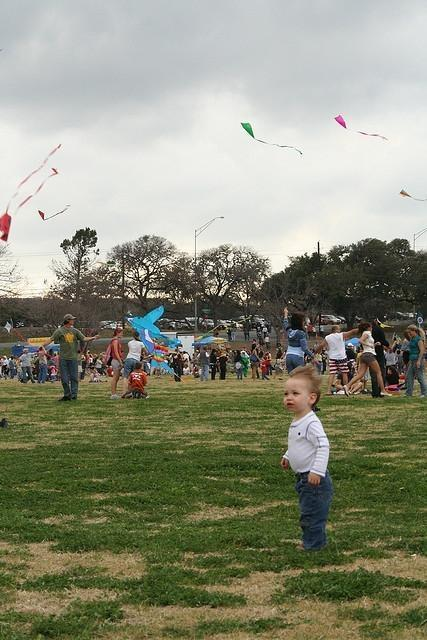car: (384, 312, 411, 322), (245, 319, 264, 330), (322, 315, 342, 325), (314, 314, 328, 326), (164, 322, 183, 329), (202, 319, 214, 329), (336, 316, 346, 324), (104, 324, 116, 330), (183, 323, 192, 331), (234, 322, 243, 328), (219, 322, 230, 326)
